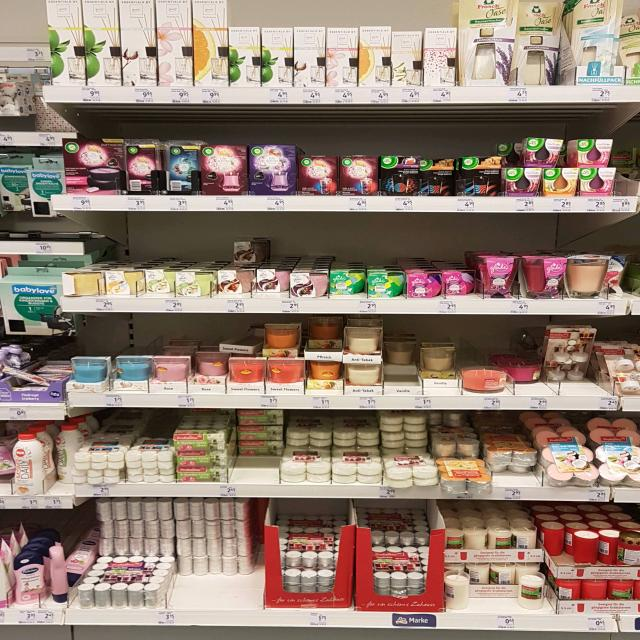unorganised: (550, 327, 595, 389), (235, 411, 282, 468), (165, 142, 202, 196), (287, 429, 378, 450), (420, 343, 460, 389), (12, 553, 47, 605), (70, 452, 125, 484), (519, 132, 565, 170), (491, 450, 540, 484), (45, 543, 72, 604), (307, 313, 345, 355), (385, 339, 416, 382), (233, 237, 271, 268), (328, 270, 368, 299), (56, 424, 75, 481), (217, 270, 252, 300), (256, 269, 289, 299), (445, 274, 478, 300), (144, 270, 175, 297), (510, 361, 544, 385), (544, 525, 566, 559), (434, 410, 462, 430)
